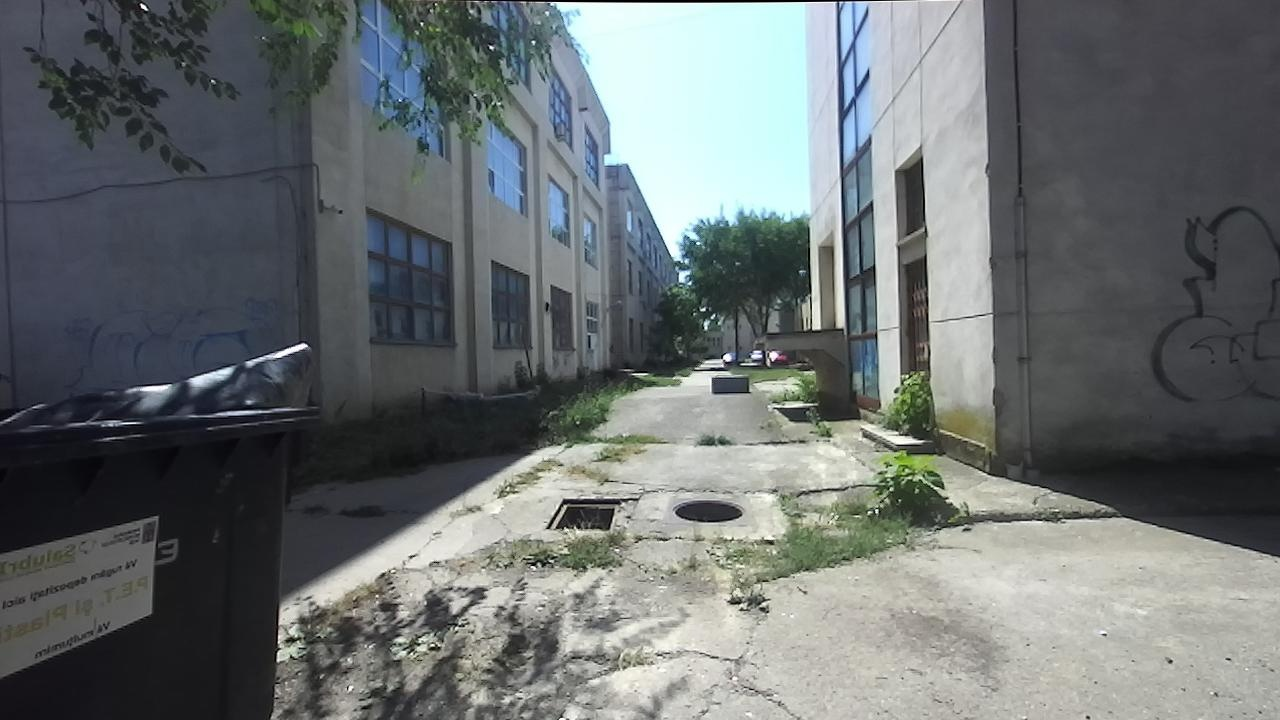drain: (539, 490, 624, 533), (670, 491, 743, 525)
